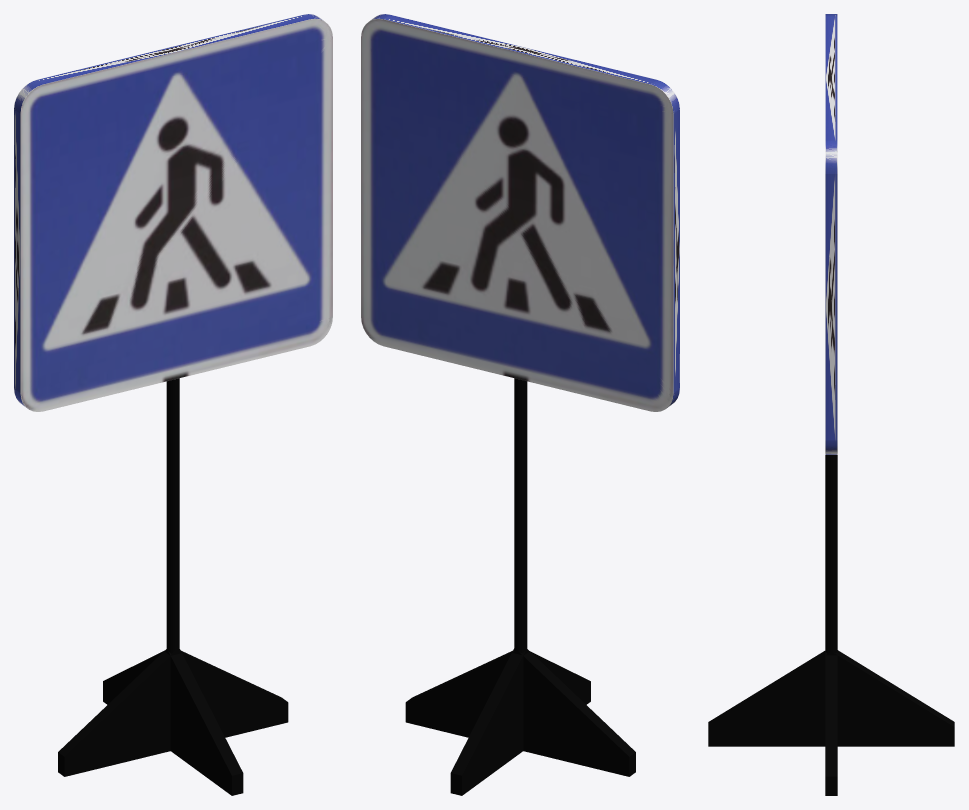
File: ped.dae
The picture shows the model from 3 angles, left to right: view 1: azimuth 30°, elevation 25°; view 2: azimuth 150°, elevation 25°; view 3: azimuth 270°, elevation 25°; orthographic projection. The views are drawn at different scales.
Visible parts, largest first — view 1: Cylinder001; view 2: Cylinder001; view 3: Cylinder001.
Part boxes in pixels (x1,y1,x2,y2): Cylinder001: (14, 14, 332, 795); Cylinder001: (361, 14, 679, 795); Cylinder001: (708, 14, 954, 795).
Bounding box in the file's own units: 0.055 × 0.0394 × 0.1174.
Materials: 2 (1 with a texture image).
